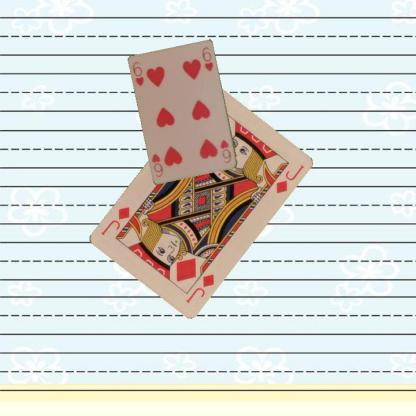6h: (130, 59, 146, 87), (218, 137, 233, 165)
Jd: (183, 271, 216, 304)
